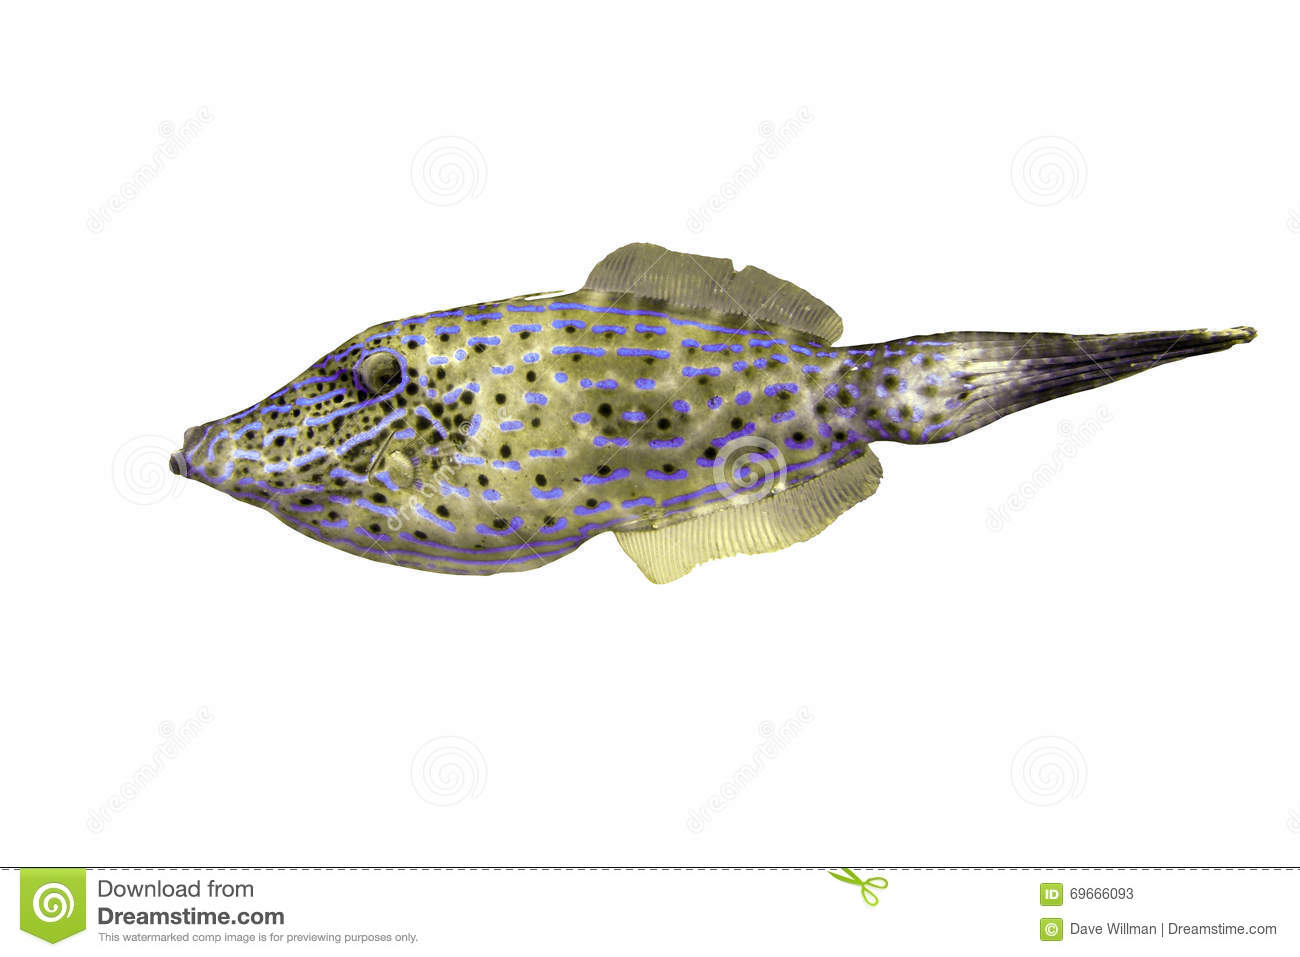Aluterus_scriptus: (160, 243, 1280, 597)
